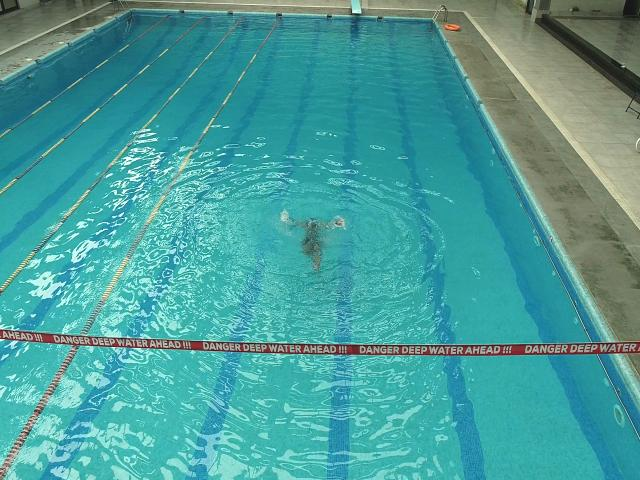drowning: (277, 207, 350, 247)
